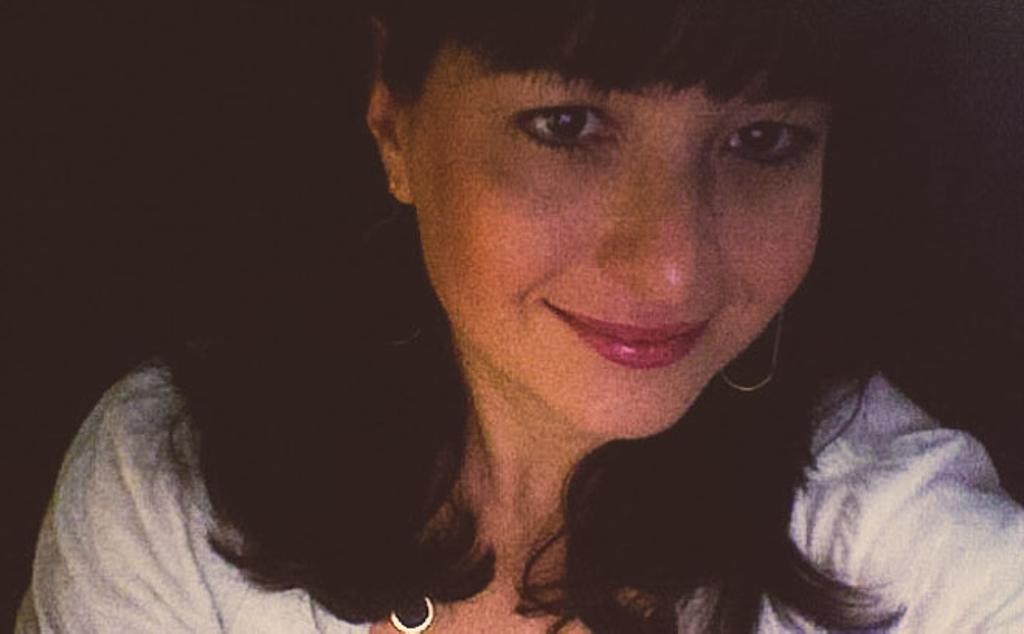face: (420, 6, 824, 438)
